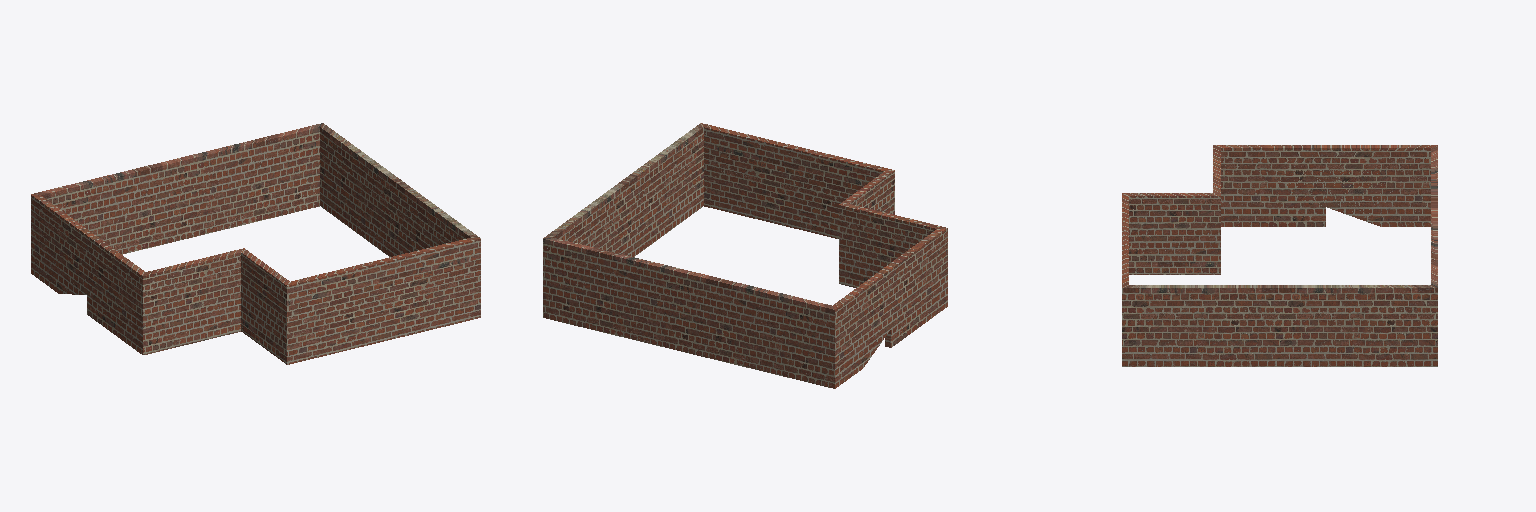
3 renders of one model, left to right at view 1: azimuth 30°, elevation 25°; view 2: azimuth 150°, elevation 25°; view 3: azimuth 270°, elevation 25°, orthographic.
Parts seen in each view (by area): view 1: Plane; view 2: Plane; view 3: Plane.
Boxes of the visible parts, x1,y1,x2,y2 form: Plane: [31, 123, 480, 364]; Plane: [543, 123, 947, 388]; Plane: [1122, 145, 1437, 366].
Bounding box in the file's own units: 15.49 × 4 × 14.51.
Materials: 1 (1 with a texture image).